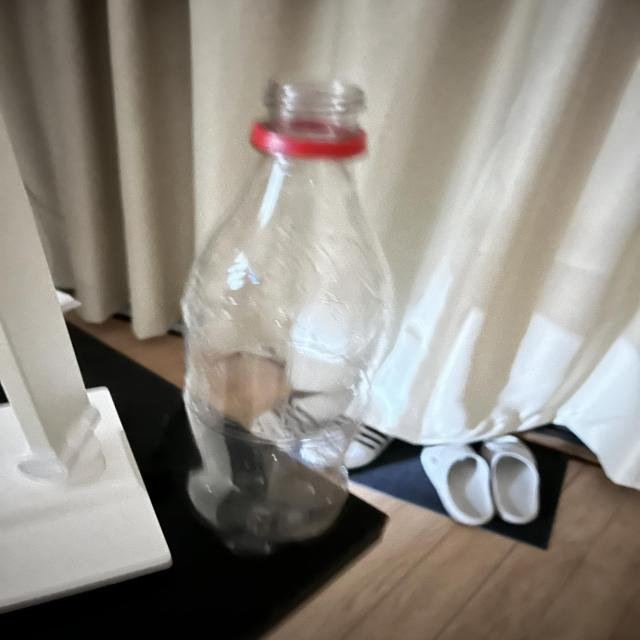empty: (182, 82, 391, 555)
